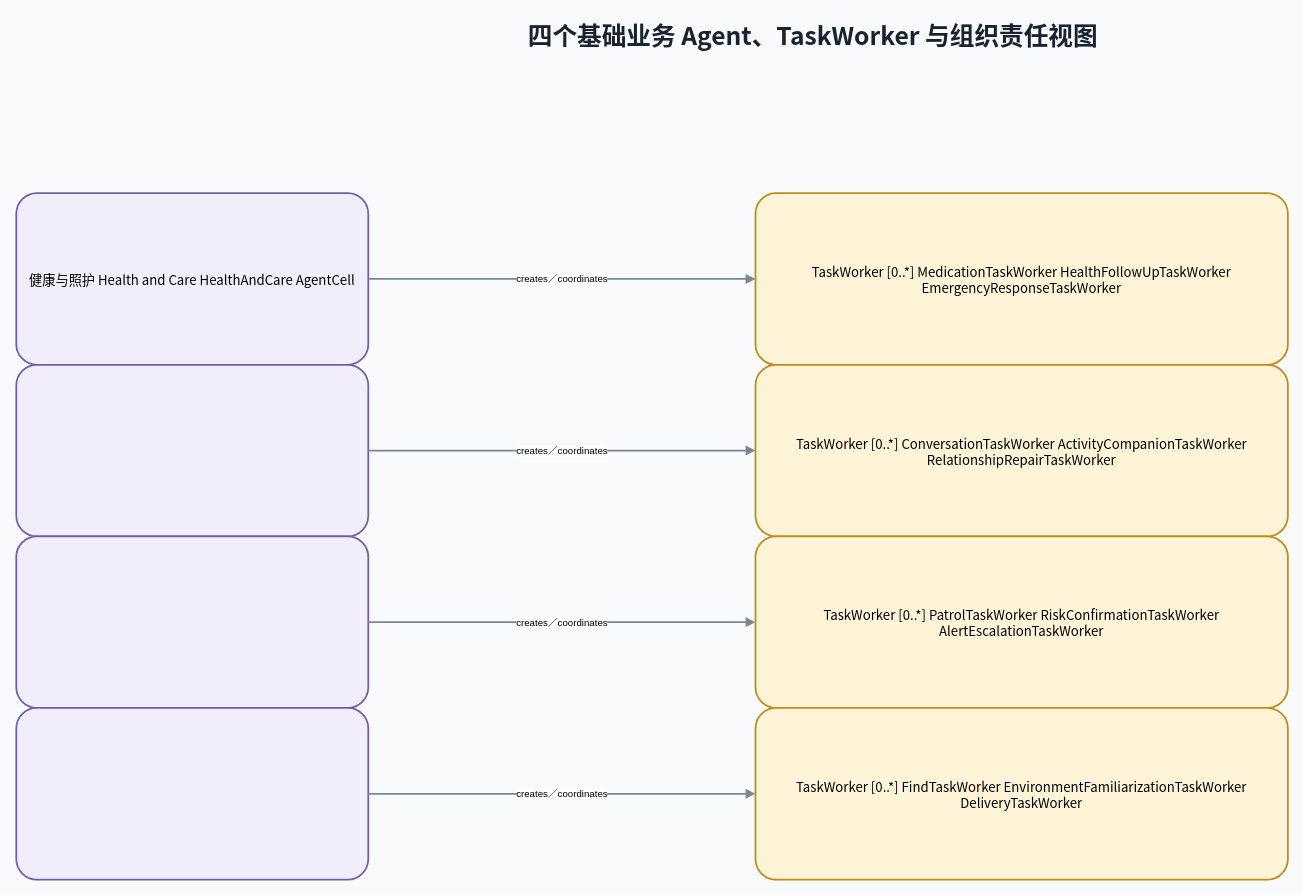
Image size: 1303x895. Some labels were removed from this diagram. The shapes that lost their labels are listed below. From the top down, each one's box as (x1, y1, x2, y2) in pixels, then its label:
(15, 363, 369, 537): 陪伴与关系 Companionship and Relationship CompanionshipAndRelationship AgentCell
(15, 535, 369, 708): 家庭安全 Home Safety HomeSafety AgentCell
(15, 707, 369, 880): 环境与物品 Environment and Objects EnvironmentAndObjects AgentCell
